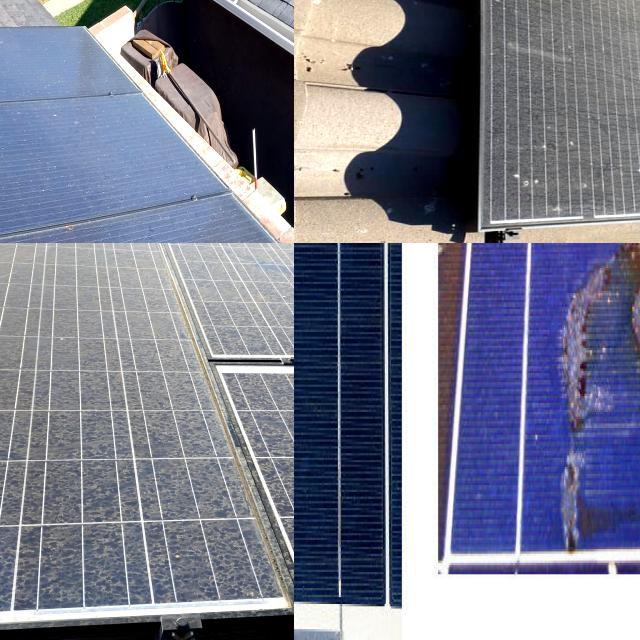dust: (72, 334, 196, 472), (72, 486, 257, 576), (22, 101, 133, 222), (482, 56, 567, 206), (482, 0, 577, 134), (0, 336, 84, 466), (589, 0, 640, 213), (0, 487, 70, 605), (0, 258, 80, 327), (2, 29, 82, 97), (82, 271, 176, 328), (0, 104, 41, 234), (218, 272, 294, 342), (172, 243, 294, 282), (262, 378, 294, 521), (143, 243, 294, 271), (0, 243, 100, 279), (0, 36, 43, 98)
shadow: (553, 243, 640, 438), (435, 243, 476, 559), (548, 453, 640, 556), (294, 479, 324, 629), (483, 243, 632, 266), (569, 243, 605, 268)
